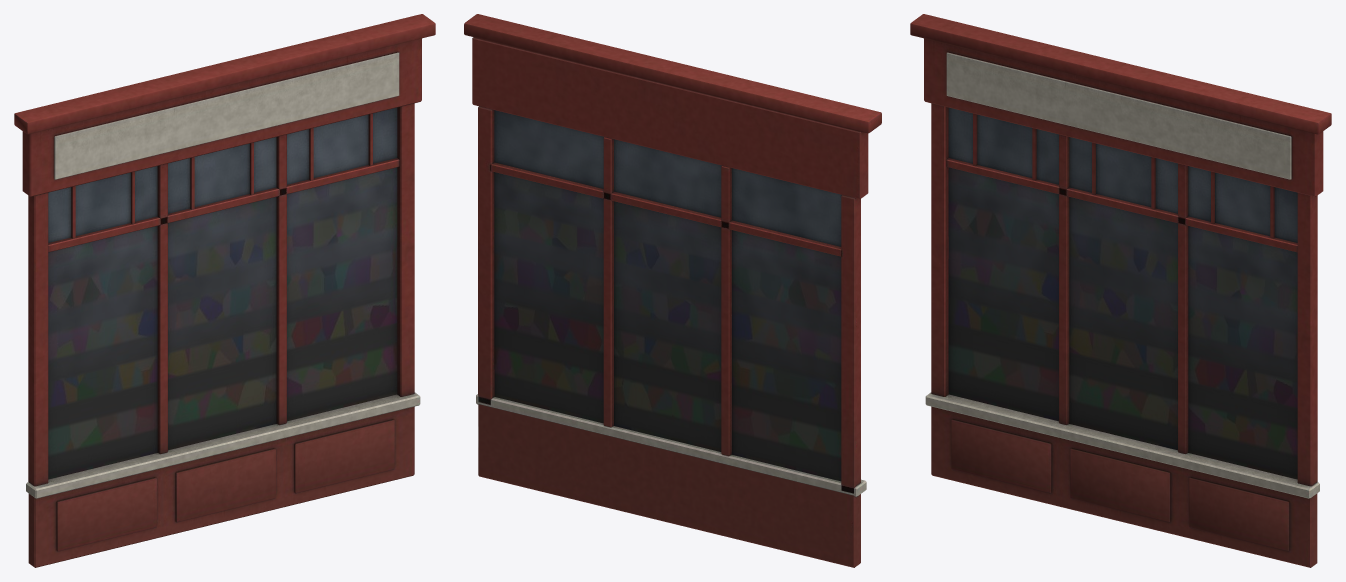
The model's file is shop_town_30_red.glb.
3 views of the same model, side by side, from view 1: azimuth 30°, elevation 25°; view 2: azimuth 150°, elevation 25°; view 3: azimuth 330°, elevation 25° (orthographic).
Visible parts, largest first — view 1: shop_town_30_red; view 2: shop_town_30_red; view 3: shop_town_30_red.
Part boxes in pixels (x1,y1,x2,y2): shop_town_30_red: (14, 14, 435, 567); shop_town_30_red: (464, 14, 881, 567); shop_town_30_red: (910, 14, 1331, 567).
Bounding box in the file's own units: 3.44 × 3.65 × 0.2.
Materials: 1 (1 with a texture image).
